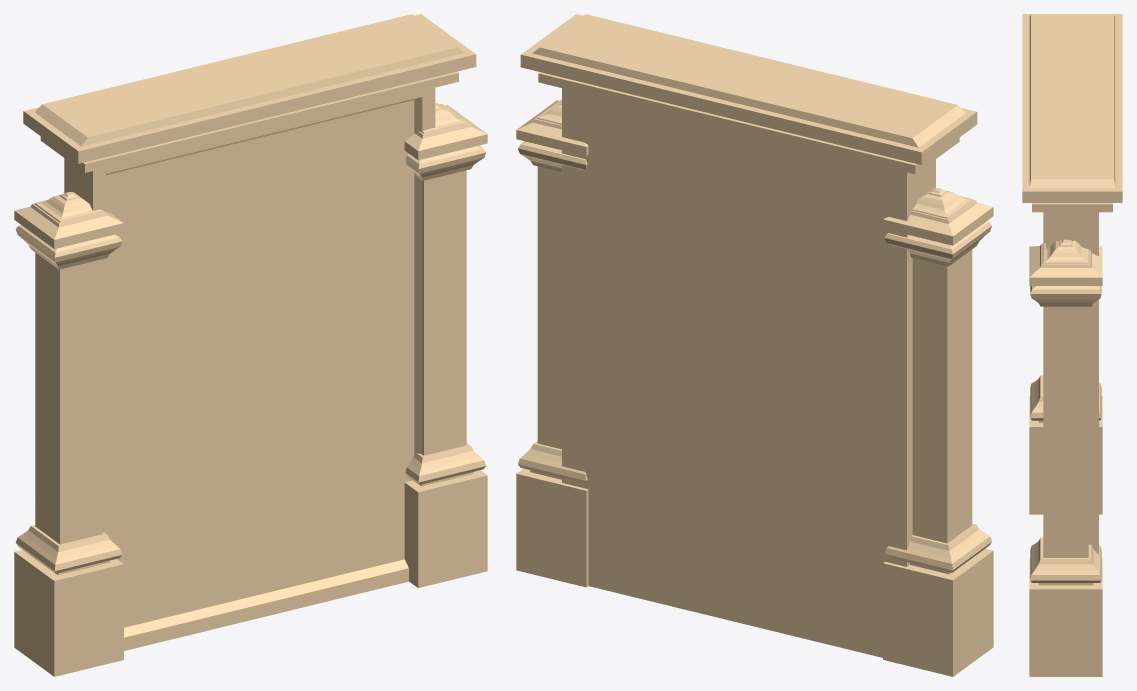
File: CreditWall.fbx
The picture shows the model from 3 angles, left to right: view 1: azimuth 30°, elevation 25°; view 2: azimuth 150°, elevation 25°; view 3: azimuth 270°, elevation 25°; orthographic projection. The views are drawn at different scales.
Parts seen in each view (by area): view 1: Cube.037, Cube.038, Cube.040, Cube.041, Cube.043, Cube.039, Cube.042; view 2: Cube.037, Cube.038, Cube.040, Cube.043, Cube.041, Cube.039, Cube.042; view 3: Cube.037, Cube.041, Cube.043, Cube.042, Cube.040.
Part boxes in pixels (x1,y1,x2,y2): Cube.037: (23, 14, 476, 650); Cube.038: (35, 253, 102, 544); Cube.040: (14, 525, 123, 676); Cube.041: (422, 170, 466, 455); Cube.043: (404, 443, 487, 587); Cube.039: (14, 192, 123, 269); Cube.042: (404, 103, 487, 180); Cube.037: (520, 14, 977, 657); Cube.038: (912, 249, 972, 543); Cube.040: (883, 523, 993, 676); Cube.043: (516, 441, 588, 587); Cube.041: (537, 166, 561, 449); Cube.039: (883, 188, 993, 266); Cube.042: (516, 99, 588, 171); Cube.037: (1022, 14, 1122, 554); Cube.041: (1043, 306, 1088, 557); Cube.043: (1029, 537, 1102, 676); Cube.042: (1029, 239, 1102, 306); Cube.040: (1029, 375, 1102, 514).
Bounding box in the file's own units: 316 × 369 × 69.47.
